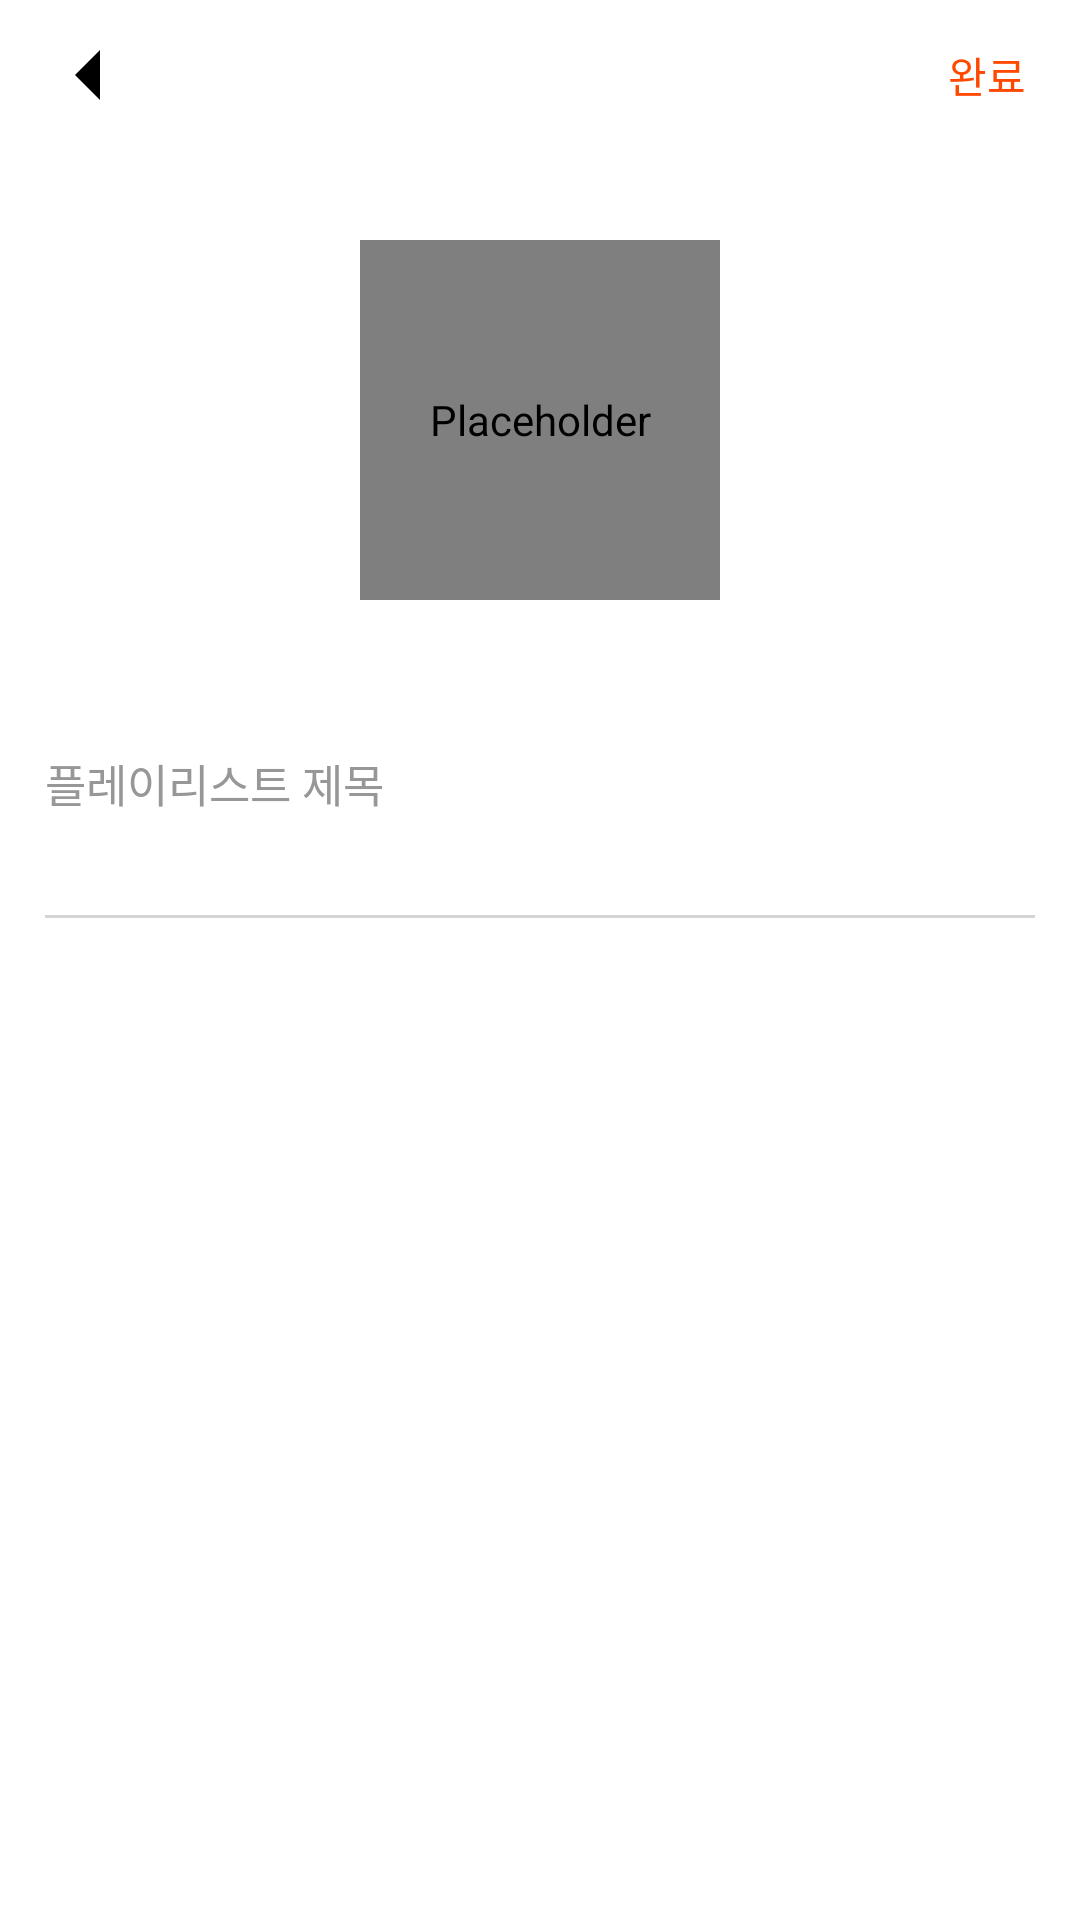

Where icons sit on this 1080x1920 app screen, as (x1, y1, x2, y2):
arrow left: (75, 50, 100, 100)
